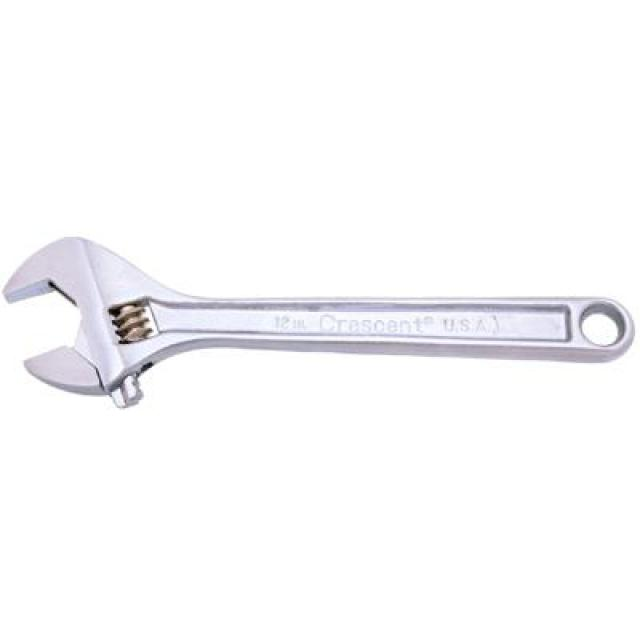wrench: (0, 205, 640, 470)
